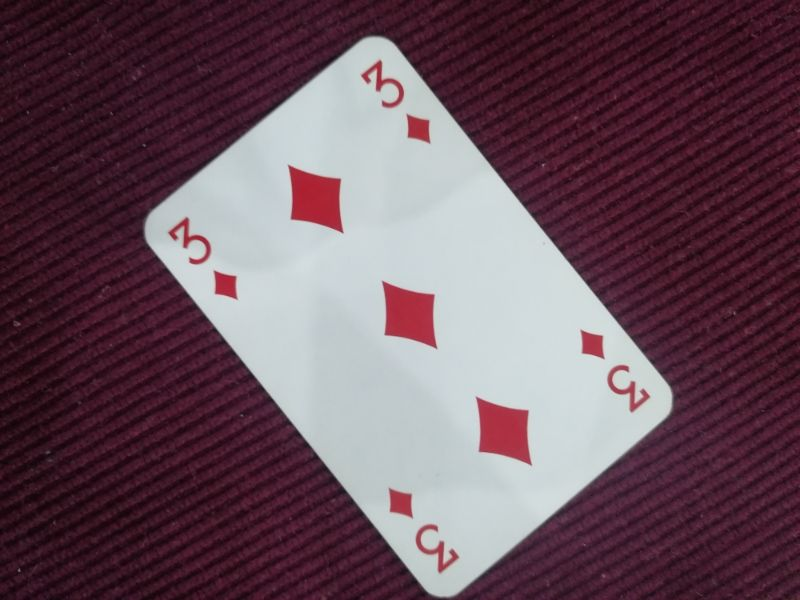3d: (383, 479, 465, 576), (162, 214, 243, 304), (576, 324, 656, 414), (360, 57, 437, 150)
